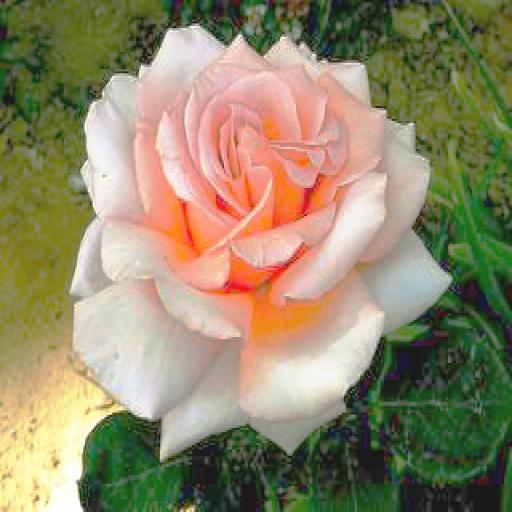rose: (72, 26, 445, 447)
